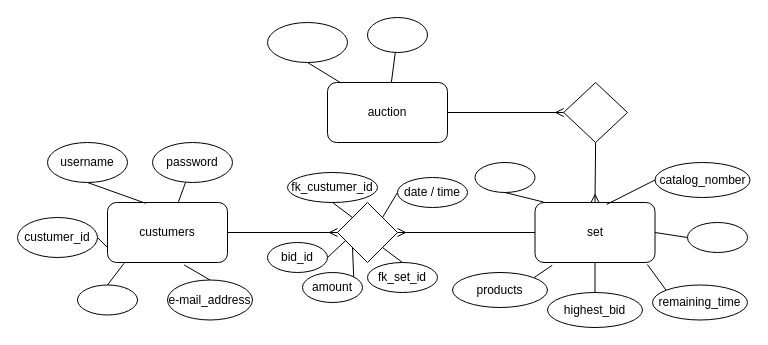
Image size: 768x345. Some labels were removed from this diagram. The box of each missing label's shape, as (x1, y1, x2, y2) in pixels:
auction_id: (266, 22, 348, 62)
bids: (336, 202, 398, 262)
date: (366, 16, 428, 52)
has: (563, 82, 628, 142)
name: (76, 284, 138, 315)
set_id: (474, 162, 535, 192)
start_price: (686, 222, 748, 252)
